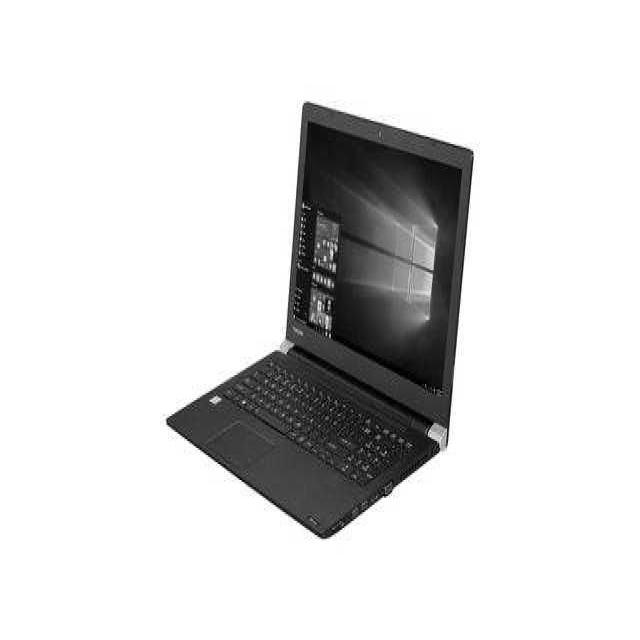laptop: (180, 93, 478, 540)
